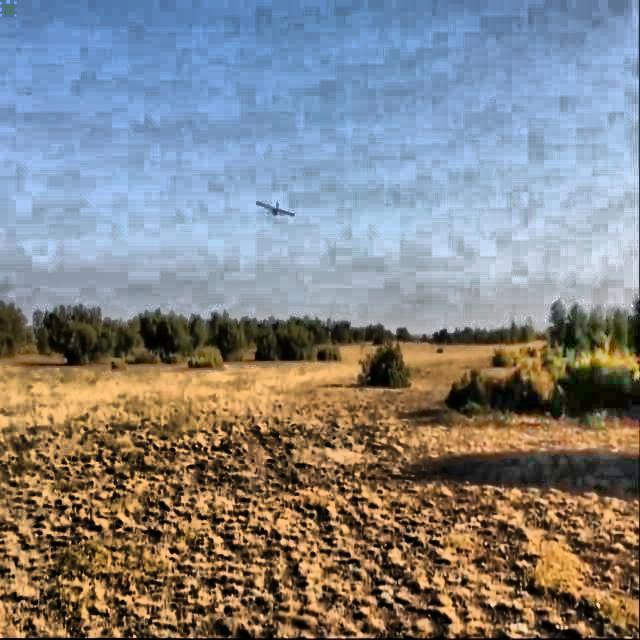iha: (257, 196, 298, 229)
